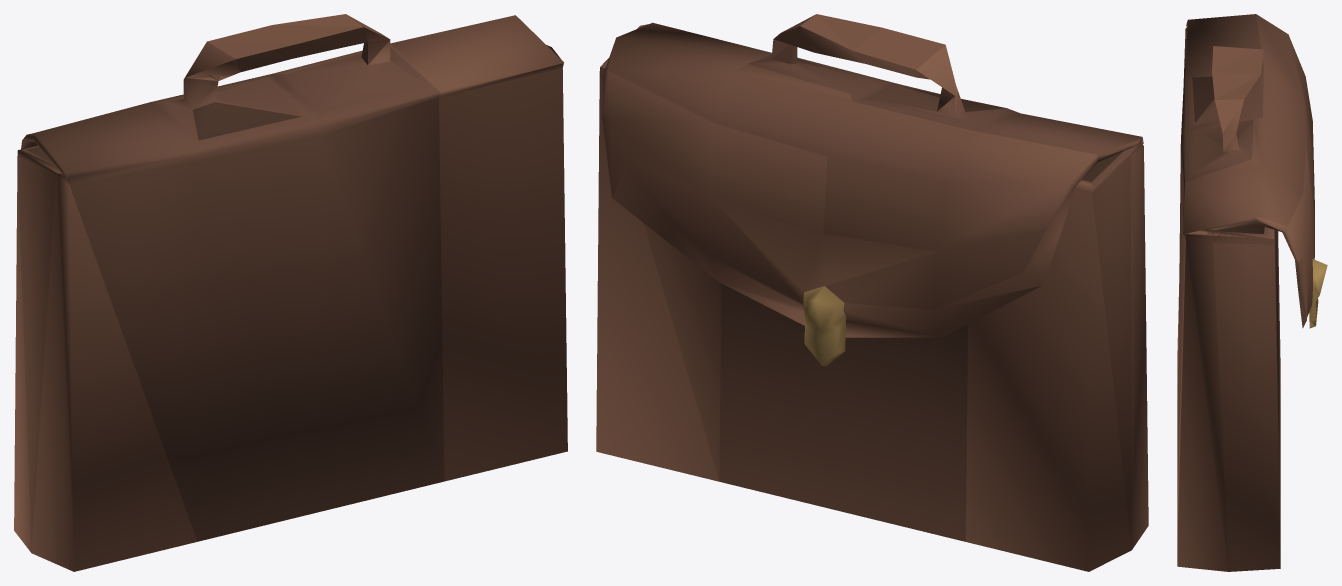
The model's file is briefcase.glb.
3 renders of one model, left to right at view 1: azimuth 30°, elevation 25°; view 2: azimuth 150°, elevation 25°; view 3: azimuth 270°, elevation 25°, orthographic. The views are drawn at different scales.
Parts seen in each view (by area): view 1: briefcase; view 2: briefcase; view 3: briefcase.
Part boxes in pixels (left/top/right/bottom): briefcase: left=14, top=14, right=567, bottom=571; briefcase: left=596, top=14, right=1148, bottom=571; briefcase: left=1177, top=14, right=1327, bottom=571.
Bounding box in the file's own units: 0.4 × 0.3358 × 0.1166.
